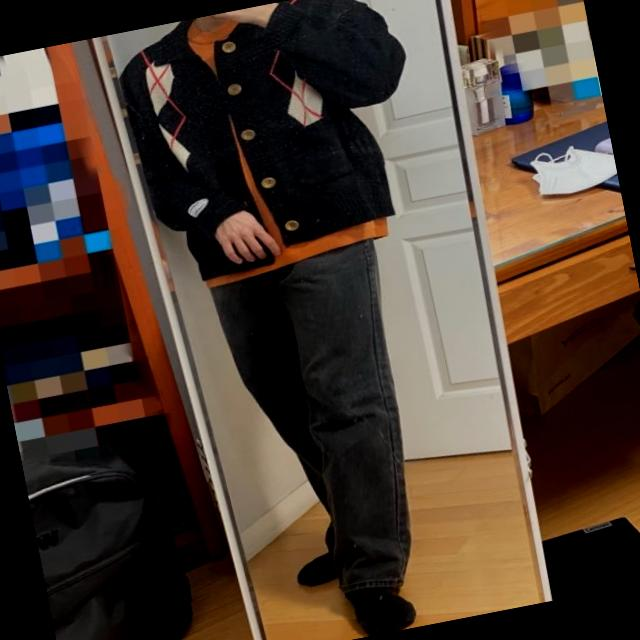cardigan: (110, 0, 442, 289)
denimpants: (206, 237, 442, 613)
